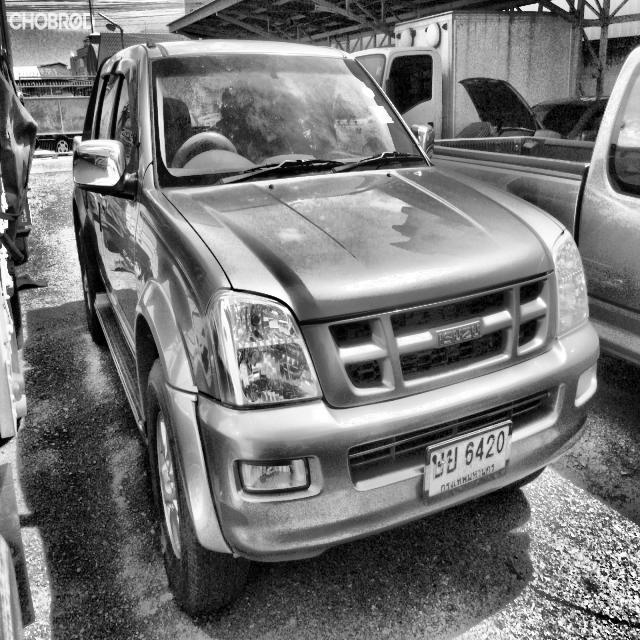license-plate: (415, 414, 520, 512)
